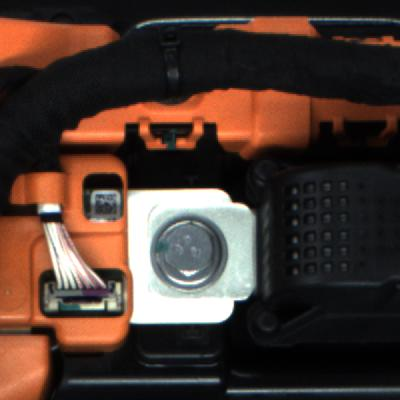nut_b: (146, 213, 241, 294)
